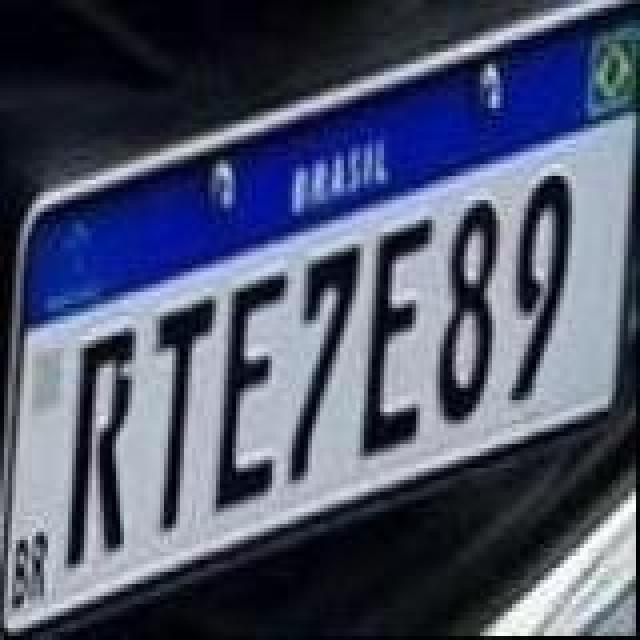7: (292, 244, 360, 488)
8: (438, 198, 502, 430)
9: (510, 172, 574, 404)
E: (214, 268, 286, 512), (362, 220, 434, 464)
R: (68, 326, 136, 570)
T: (160, 296, 220, 532)
